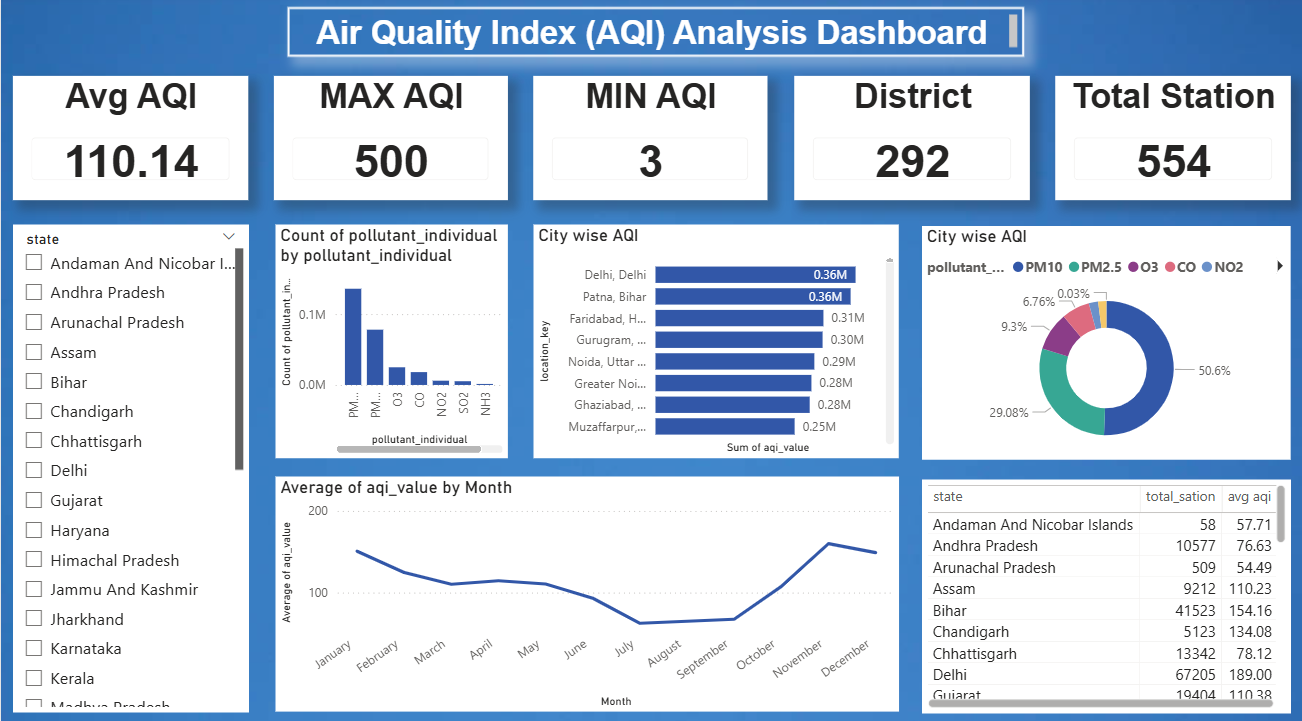

What the dashboard file says about the page in this screenshot:
{"tool":"powerbi","page":{"name":"Page 1","canvas":[1280,720],"ordinal":0},"visuals":[{"type":"textbox","box":[280.1,12.1,720.8,48.5],"z":0},{"type":"cardVisual","title":"Avg AQI","fields":{"Data":["aqi.avg aqi"]},"box":[12.1,78.7,230.2,121],"z":1000},{"type":"cardVisual","title":"MIN AQI","fields":{"Data":["Min(aqi.aqi_value)"]},"box":[521.6,78.7,228.6,121],"z":2000},{"type":"cardVisual","title":"District","fields":{"Data":["Count(aqi.location_key)"]},"box":[775.7,78.7,230.2,121],"z":3000},{"type":"cardVisual","title":"Total Station","fields":{"Data":["aqi.Monitoring Stations (State-Area)"]},"box":[1031.2,78.7,230.2,121],"z":4000},{"type":"cardVisual","title":"MAX AQI","fields":{"Data":["Max(aqi.aqi_value)"]},"box":[267.6,78.7,228.6,121],"z":5000},{"type":"lineChart","fields":{"Category":["aqi.date.Variation.Date Hierarchy.Month"],"Y":["Avg(aqi.aqi_value)"]},"box":[268,470.9,610.2,230.2],"z":6000},{"type":"barChart","title":"City wise AQI","fields":{"Y":["Sum(aqi.aqi_value)"],"Category":["aqi.location_key"]},"box":[520.9,224.1,357.4,228.6],"z":7000},{"type":"donutChart","title":"City wise AQI","fields":{"Category":["aqi.pollutant_individual"],"Y":["CountNonNull(aqi.pollutant_individual)"]},"box":[901,225.6,360.4,228.6],"z":8000},{"type":"tableEx","title":"City wise AQI","fields":{"Values":["aqi.state","aqi.total_sation","aqi.avg aqi"]},"box":[901,473.9,360.4,228.6],"z":9000},{"type":"columnChart","fields":{"Y":["CountNonNull(aqi.pollutant_individual)"],"Category":["aqi.pollutant_individual"]},"box":[268,224.1,227.1,228.6],"z":10000},{"type":"slicer","fields":{"Values":["aqi.state"]},"box":[12.1,224.1,230.2,477],"z":10001}]}

Visuals, with their boxes in screenshot pixels (x1, y1, x2, y2), scaled from the page's 1280x720 canvas onto the 1302x721 screenshot:
textbox: (285,12,1018,61)
"Avg AQI" cardVisual: (12,79,246,200)
"MIN AQI" cardVisual: (531,79,763,200)
"District" cardVisual: (789,79,1023,200)
"Total Station" cardVisual: (1049,79,1283,200)
"MAX AQI" cardVisual: (272,79,505,200)
lineChart - aqi.date.Variation.Date Hierarchy.Month x Avg(aqi.aqi_value): (273,472,893,702)
"City wise AQI" barChart: (530,224,893,453)
"City wise AQI" donutChart: (916,226,1283,455)
"City wise AQI" tableEx: (916,475,1283,703)
columnChart - CountNonNull(aqi.pollutant_individual) x aqi.pollutant_individual: (273,224,504,453)
slicer - aqi.state: (12,224,246,702)
